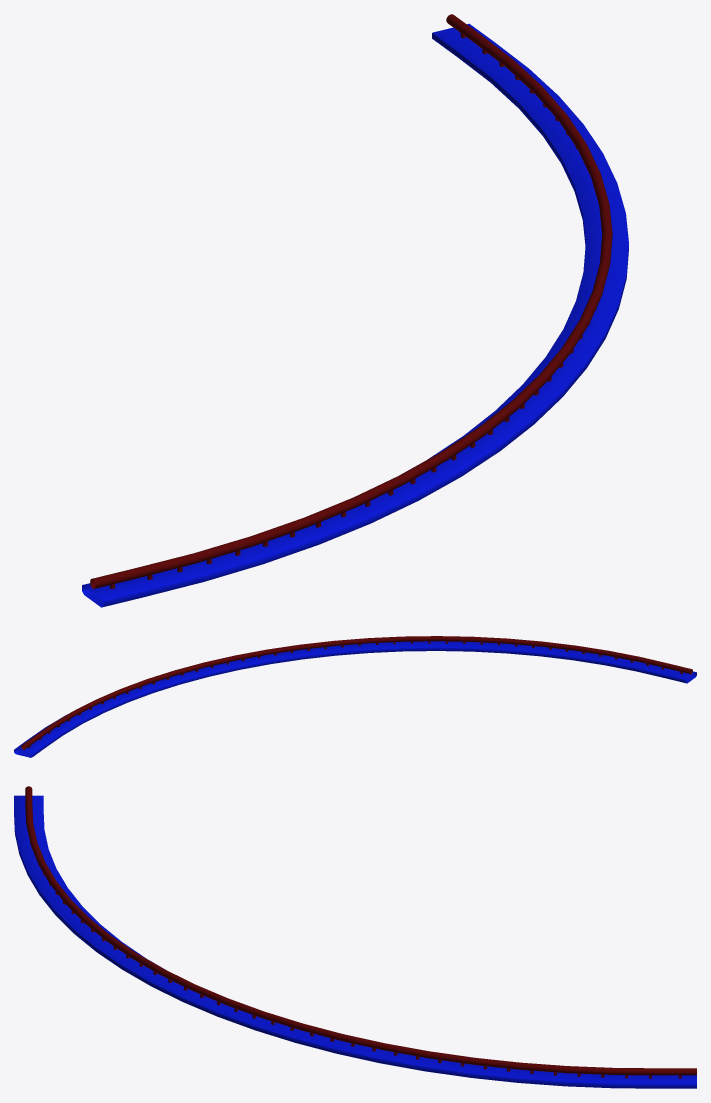
The model's file is TramBridge_Concrete_07.FBX.
The picture shows the model from 3 angles, top to bottom: view 1: azimuth 30°, elevation 25°; view 2: azimuth 150°, elevation 25°; view 3: azimuth 270°, elevation 25°; orthographic projection. The views are drawn at different scales.
Parts seen in each view (by area): view 1: TramBridge_Concrete_07_LOD0; view 2: TramBridge_Concrete_07_LOD0; view 3: TramBridge_Concrete_07_LOD0.
Boxes of the visible parts, <box> form: TramBridge_Concrete_07_LOD0: <box>82,14,628,607</box>; TramBridge_Concrete_07_LOD0: <box>14,636,696,757</box>; TramBridge_Concrete_07_LOD0: <box>14,786,696,1088</box>.
Size of the model in its own units: 5724 by 140 by 5724.
